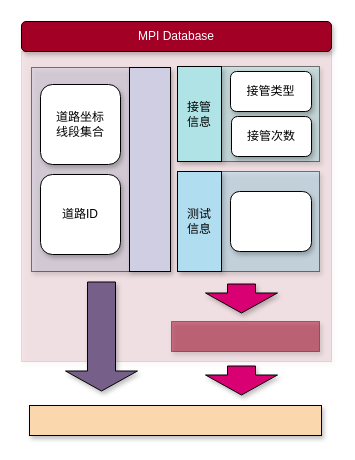
Image size: 355x460. Some labels were removed from this diagram. The shapes that lost their labels are listed below. From the top down, each one's centre as x and y in pixels, then its label:
At [150,170]: "道路 信息".
At [272,222]: "自动驾驶里程".
At [246,337]: "计算MPI".
At [176,421]: "在高精地图上分道路绘制MPI热力图".
